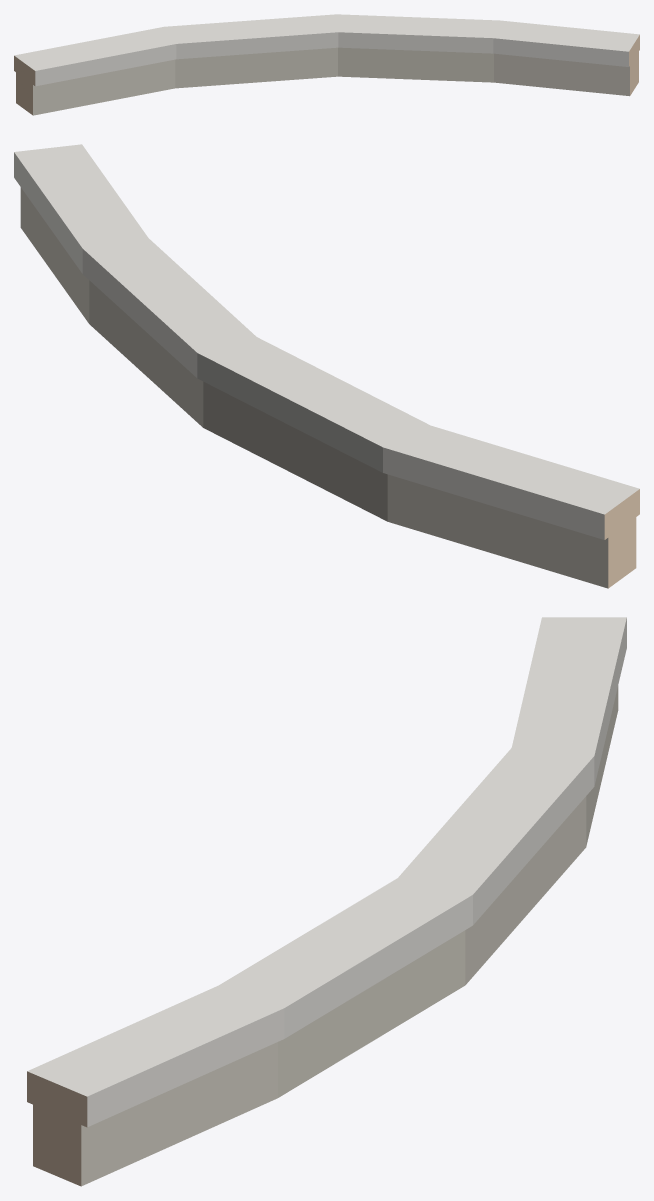
File: Tiered_Retaining_Wall_45_Degrees_Curve_Outer_3x4_Top.glb
3 views of the same model, one above another, from view 1: azimuth 30°, elevation 25°; view 2: azimuth 150°, elevation 25°; view 3: azimuth 270°, elevation 25° (orthographic). The views are drawn at different scales.
Parts seen in each view (by area): view 1: Tiered_Retaining_Wall_45_Degrees_Curve_Outer_3x4_Top; view 2: Tiered_Retaining_Wall_45_Degrees_Curve_Outer_3x4_Top; view 3: Tiered_Retaining_Wall_45_Degrees_Curve_Outer_3x4_Top.
Boxes of the visible parts, x1,y1,x2,y2 form: Tiered_Retaining_Wall_45_Degrees_Curve_Outer_3x4_Top: (14,14,639,115); Tiered_Retaining_Wall_45_Degrees_Curve_Outer_3x4_Top: (14,144,639,588); Tiered_Retaining_Wall_45_Degrees_Curve_Outer_3x4_Top: (27,617,626,1186).
Bounding box in the file's own units: 417 × 37.5 × 221.
